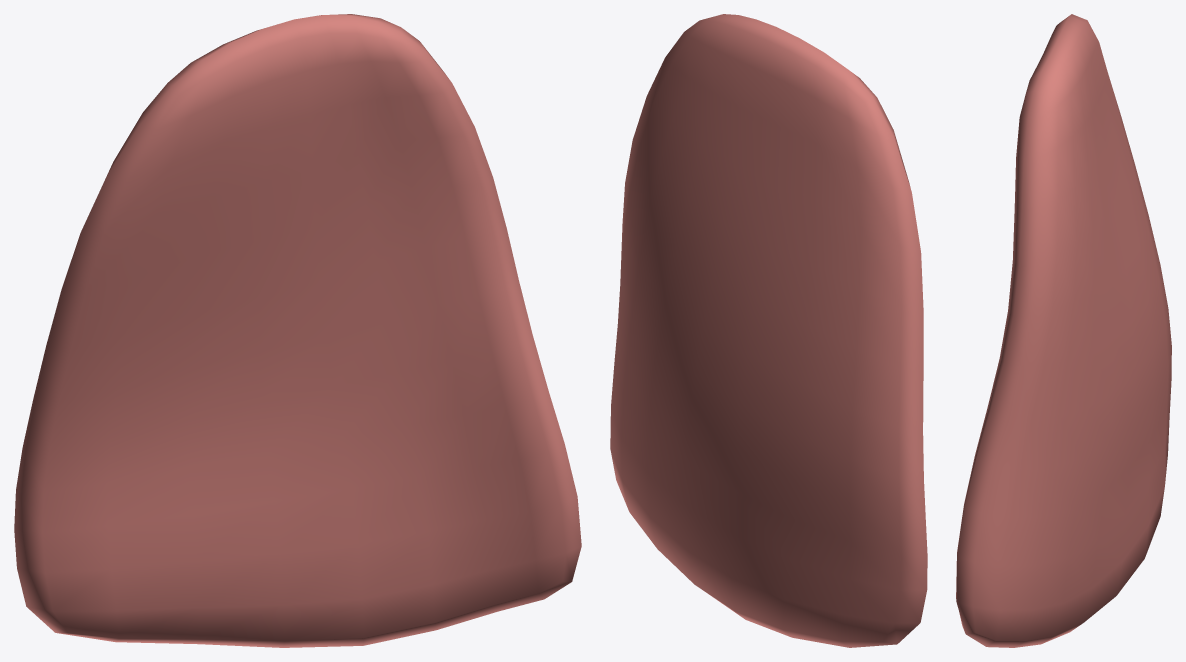
3 views of the same model, side by side, from view 1: azimuth 30°, elevation 25°; view 2: azimuth 150°, elevation 25°; view 3: azimuth 270°, elevation 25° (orthographic). The views are drawn at different scales.
Visible parts, largest first — view 1: ZA_dc126b9d81373fcc; view 2: ZA_dc126b9d81373fcc; view 3: ZA_dc126b9d81373fcc.
Boxes of the visible parts, x1=… form: ZA_dc126b9d81373fcc: x1=14, y1=14, x2=581, y2=647; ZA_dc126b9d81373fcc: x1=610, y1=14, x2=927, y2=647; ZA_dc126b9d81373fcc: x1=956, y1=14, x2=1171, y2=647.
Bounding box in the file's own units: 0.0209 × 0.0283 × 0.0097.
